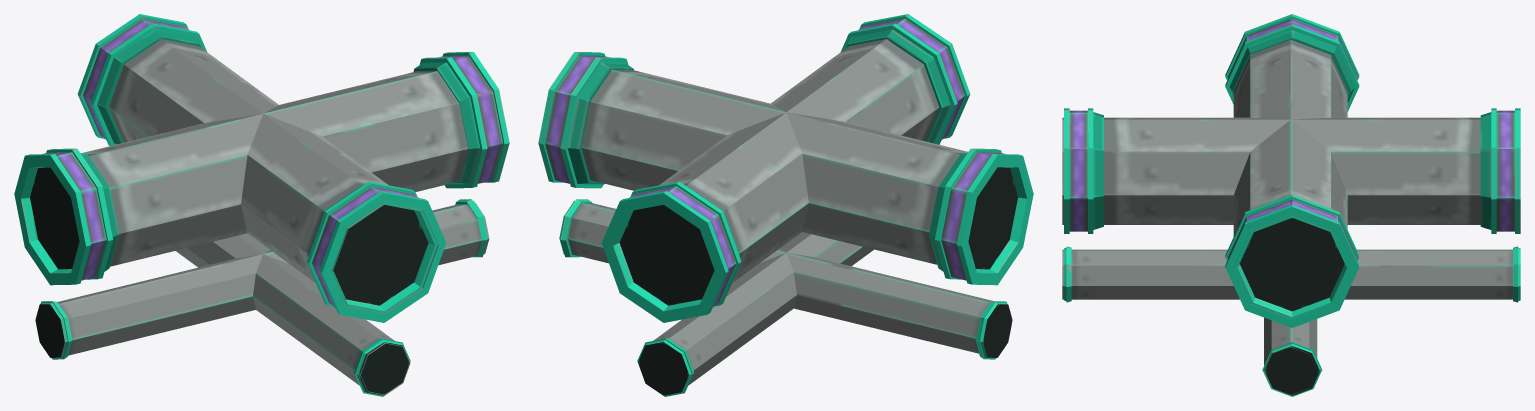
File: pipe_cross.fbx
3 renders of one model, left to right at view 1: azimuth 30°, elevation 25°; view 2: azimuth 150°, elevation 25°; view 3: azimuth 270°, elevation 25°, orthographic. The views are drawn at different scales.
Parts seen in each view (by area): view 1: Object003; view 2: Object003; view 3: Object003.
Part boxes in pixels (<box>): Object003: <box>14,14,509,396</box>; Object003: <box>538,14,1033,396</box>; Object003: <box>1062,14,1520,396</box>.
Size of the model in its own units: 254 by 117 by 255.
1 material, 1 textured.
